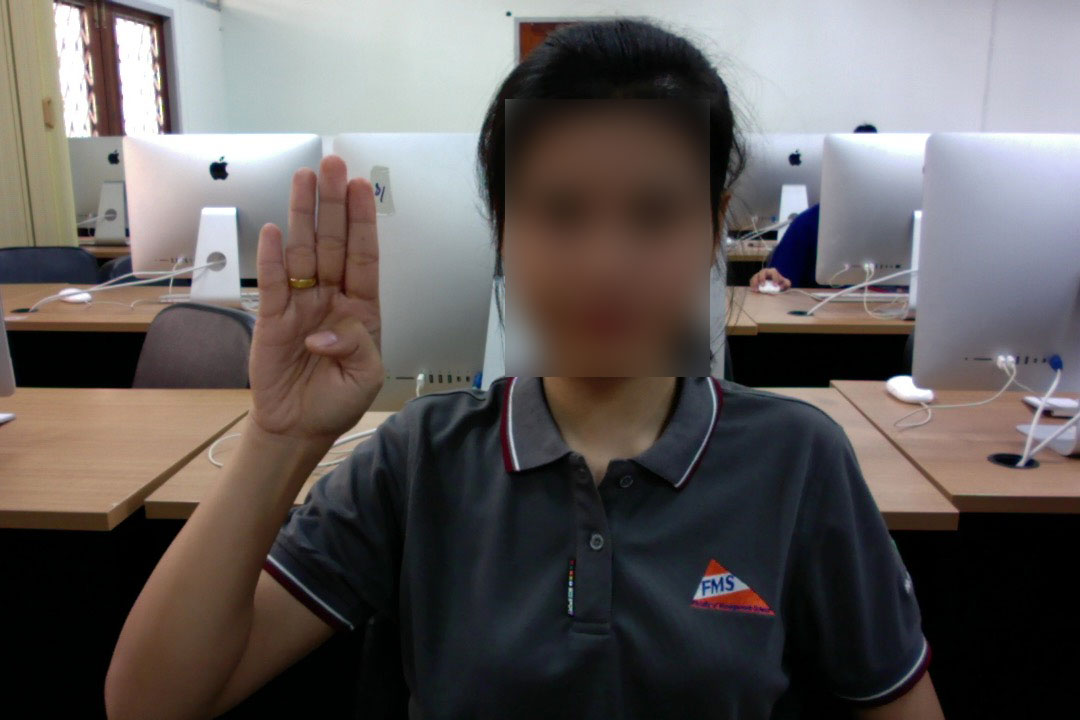bor: (245, 149, 392, 451)
